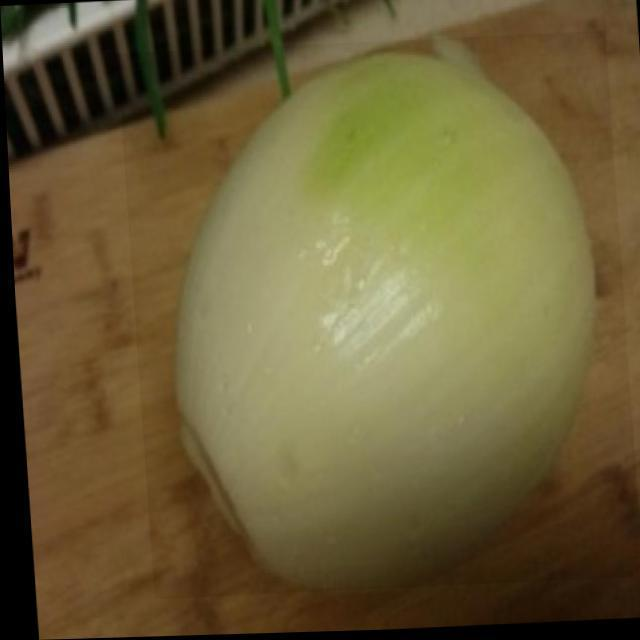Onion: (116, 34, 636, 600)
